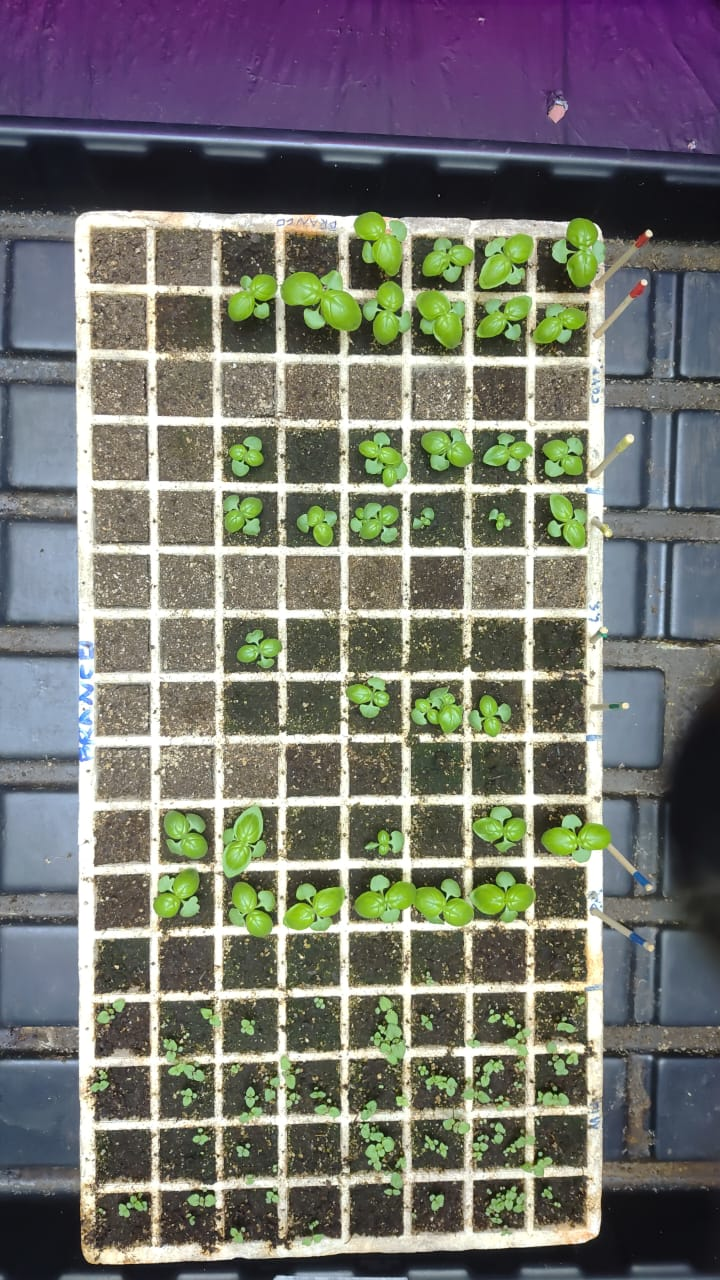Folha: (264, 208, 414, 347), (352, 866, 541, 930), (273, 268, 414, 347), (409, 685, 513, 739), (550, 216, 607, 289), (539, 812, 613, 864), (475, 232, 536, 290), (220, 803, 267, 878), (472, 872, 537, 924), (412, 288, 466, 350), (282, 881, 346, 933), (226, 880, 278, 940), (470, 804, 527, 855), (358, 430, 408, 488), (475, 292, 534, 341), (225, 272, 277, 323), (151, 866, 201, 919), (531, 301, 588, 346), (421, 236, 475, 283), (280, 270, 334, 317), (546, 491, 588, 550), (420, 426, 474, 471), (161, 809, 208, 860), (541, 435, 585, 477), (373, 431, 407, 484), (236, 628, 277, 663), (345, 687, 386, 719), (412, 686, 471, 708), (243, 273, 277, 310), (376, 994, 404, 1038), (310, 504, 338, 547), (377, 1030, 407, 1066), (490, 1185, 527, 1214), (423, 686, 469, 707), (505, 1027, 529, 1065), (353, 211, 383, 240), (472, 815, 502, 843), (518, 1155, 553, 1179), (378, 1007, 404, 1039), (349, 514, 381, 539), (164, 1050, 194, 1076), (444, 899, 472, 926), (259, 638, 283, 669), (378, 457, 406, 483), (380, 506, 399, 543), (369, 1130, 396, 1156), (166, 1059, 197, 1081), (179, 832, 206, 857), (363, 1132, 387, 1160), (243, 434, 264, 465), (223, 509, 249, 534), (358, 515, 384, 540), (482, 444, 510, 467), (484, 1197, 506, 1224), (385, 1038, 406, 1066), (467, 693, 506, 708), (359, 1099, 379, 1128), (243, 302, 273, 321), (505, 817, 526, 843), (344, 683, 371, 703), (424, 1074, 451, 1094), (561, 453, 585, 475), (259, 637, 283, 659), (356, 433, 377, 458), (409, 700, 430, 725), (389, 1160, 407, 1189), (504, 1185, 527, 1207), (550, 1050, 569, 1076), (359, 1123, 385, 1142), (519, 1159, 545, 1178), (354, 502, 381, 520), (321, 269, 344, 290), (541, 1091, 570, 1107), (306, 504, 326, 527), (183, 1062, 206, 1082), (236, 644, 260, 663), (371, 687, 390, 711), (222, 494, 240, 519), (463, 1087, 490, 1103), (365, 1147, 383, 1171), (383, 999, 400, 1024), (241, 497, 262, 517), (378, 504, 399, 524), (367, 676, 388, 696), (230, 456, 249, 478), (111, 1202, 130, 1224), (497, 432, 522, 448), (228, 443, 248, 463), (129, 1191, 148, 1212), (388, 829, 405, 852), (314, 1103, 340, 1118), (514, 1133, 536, 1150), (368, 1124, 384, 1147), (484, 717, 503, 736), (495, 870, 516, 887), (95, 1009, 118, 1024), (442, 877, 461, 895), (538, 1091, 559, 1107), (363, 502, 381, 519), (243, 518, 260, 536), (485, 1198, 505, 1213), (428, 1193, 444, 1211), (314, 1103, 334, 1117), (229, 1223, 243, 1243), (511, 1041, 528, 1057), (200, 999, 213, 1019), (445, 1076, 458, 1096), (90, 1079, 109, 1092), (180, 1087, 193, 1106), (493, 1121, 506, 1140), (364, 838, 380, 853), (377, 835, 389, 855), (556, 1021, 576, 1033), (455, 1119, 470, 1135), (186, 1191, 201, 1207), (515, 1026, 532, 1040), (471, 1138, 488, 1152), (373, 1142, 387, 1159), (296, 514, 309, 532), (425, 1074, 446, 1085), (306, 1233, 325, 1245), (111, 998, 126, 1013), (487, 1008, 501, 1023), (461, 1086, 476, 1100), (503, 1011, 516, 1027), (279, 1055, 292, 1071), (488, 508, 502, 522), (565, 1051, 579, 1065), (377, 829, 390, 844), (395, 1094, 410, 1107), (504, 1185, 517, 1200), (284, 1073, 296, 1089), (479, 1070, 490, 1087), (507, 457, 520, 471), (208, 1014, 222, 1027), (162, 1038, 177, 1050), (495, 1100, 510, 1112), (395, 1155, 407, 1170), (204, 1192, 216, 1207), (438, 1141, 448, 1158), (301, 1233, 314, 1246), (541, 1185, 553, 1199), (545, 1040, 557, 1053), (263, 1088, 275, 1101), (442, 1118, 455, 1130), (133, 1197, 146, 1209), (422, 507, 434, 519), (238, 1110, 249, 1123), (244, 1094, 255, 1106), (251, 1106, 263, 1117), (244, 1173, 255, 1185), (310, 1090, 326, 1098), (496, 511, 505, 525), (412, 517, 423, 528), (269, 1076, 280, 1087), (493, 1133, 504, 1144), (197, 1134, 208, 1145), (373, 1031, 381, 1046), (229, 1063, 239, 1075), (245, 1086, 255, 1097), (453, 1108, 463, 1119), (235, 1145, 244, 1157), (309, 1090, 320, 1099), (576, 995, 585, 1005), (240, 1019, 250, 1028), (496, 1103, 506, 1112), (288, 1092, 296, 1103), (271, 1192, 279, 1203), (424, 1021, 433, 1030), (245, 1026, 254, 1035), (98, 1070, 107, 1079), (314, 1001, 324, 1009), (184, 1087, 192, 1097), (471, 1141, 479, 1151), (383, 1187, 393, 1195), (495, 521, 503, 530), (285, 1099, 293, 1108), (191, 1134, 199, 1143), (429, 1142, 437, 1151), (241, 1148, 250, 1156), (392, 1188, 401, 1196), (366, 1159, 373, 1169), (503, 518, 511, 526), (313, 996, 322, 1003), (476, 1134, 485, 1141), (475, 1152, 482, 1161), (422, 518, 430, 525), (420, 1015, 428, 1022), (373, 1031, 381, 1038), (308, 1221, 315, 1229), (493, 1013, 500, 1020), (551, 1084, 558, 1091), (423, 1141, 430, 1148), (265, 1190, 272, 1197), (137, 1192, 144, 1199), (504, 1011, 510, 1019), (537, 1090, 543, 1098), (319, 1002, 325, 1009), (374, 1007, 380, 1014), (253, 1095, 259, 1102), (553, 1201, 560, 1207), (488, 1008, 494, 1014), (197, 1127, 203, 1133), (250, 1019, 255, 1026), (240, 1027, 245, 1034), (561, 1016, 567, 1021), (501, 1020, 507, 1025), (425, 1085, 431, 1090), (191, 1093, 197, 1098), (497, 1095, 503, 1100), (245, 1142, 250, 1148), (435, 1148, 440, 1154), (537, 1151, 543, 1156), (495, 1192, 501, 1197), (265, 1198, 270, 1204), (484, 1210, 490, 1215), (178, 1046, 183, 1051), (434, 1138, 439, 1143), (272, 1186, 277, 1191), (609, 704, 616, 707), (256, 661, 260, 666)
Germinacao: (243, 209, 471, 356), (363, 798, 614, 930), (365, 426, 593, 553), (427, 208, 606, 349), (218, 428, 416, 547), (148, 803, 267, 928), (664, 659, 719, 902), (342, 674, 513, 733), (483, 1008, 581, 1105), (462, 1118, 556, 1203), (417, 1056, 514, 1134), (357, 1098, 407, 1195), (238, 1054, 299, 1124), (423, 1107, 493, 1161), (304, 864, 349, 938), (161, 1038, 207, 1107), (370, 994, 406, 1068), (292, 1066, 341, 1119), (235, 1150, 280, 1205), (236, 628, 282, 669), (484, 1185, 527, 1225), (551, 994, 585, 1033), (186, 1192, 217, 1226), (95, 998, 125, 1025), (117, 1193, 147, 1218), (300, 1217, 325, 1246), (199, 1005, 222, 1027), (89, 1069, 109, 1092), (191, 1127, 209, 1145), (428, 1193, 445, 1211), (228, 1226, 245, 1244), (464, 1032, 482, 1048), (239, 1018, 255, 1035), (394, 1093, 411, 1107), (420, 1014, 433, 1031), (235, 1145, 250, 1157), (313, 996, 325, 1009), (425, 971, 435, 985)
